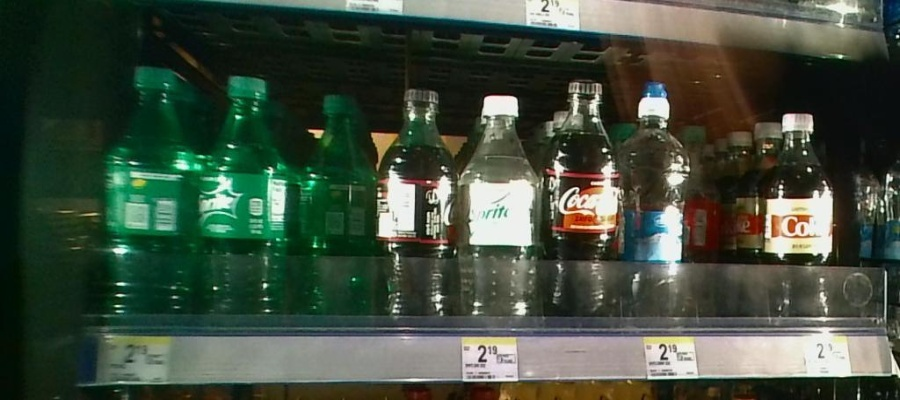bottle: (98, 55, 200, 319), (202, 73, 292, 316), (379, 76, 461, 318), (543, 71, 620, 322), (297, 83, 376, 321), (464, 84, 539, 316), (622, 77, 692, 325), (763, 98, 835, 334)
